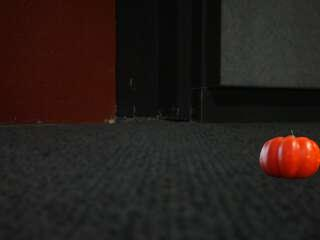Pumpkin: (256, 128, 320, 180)
